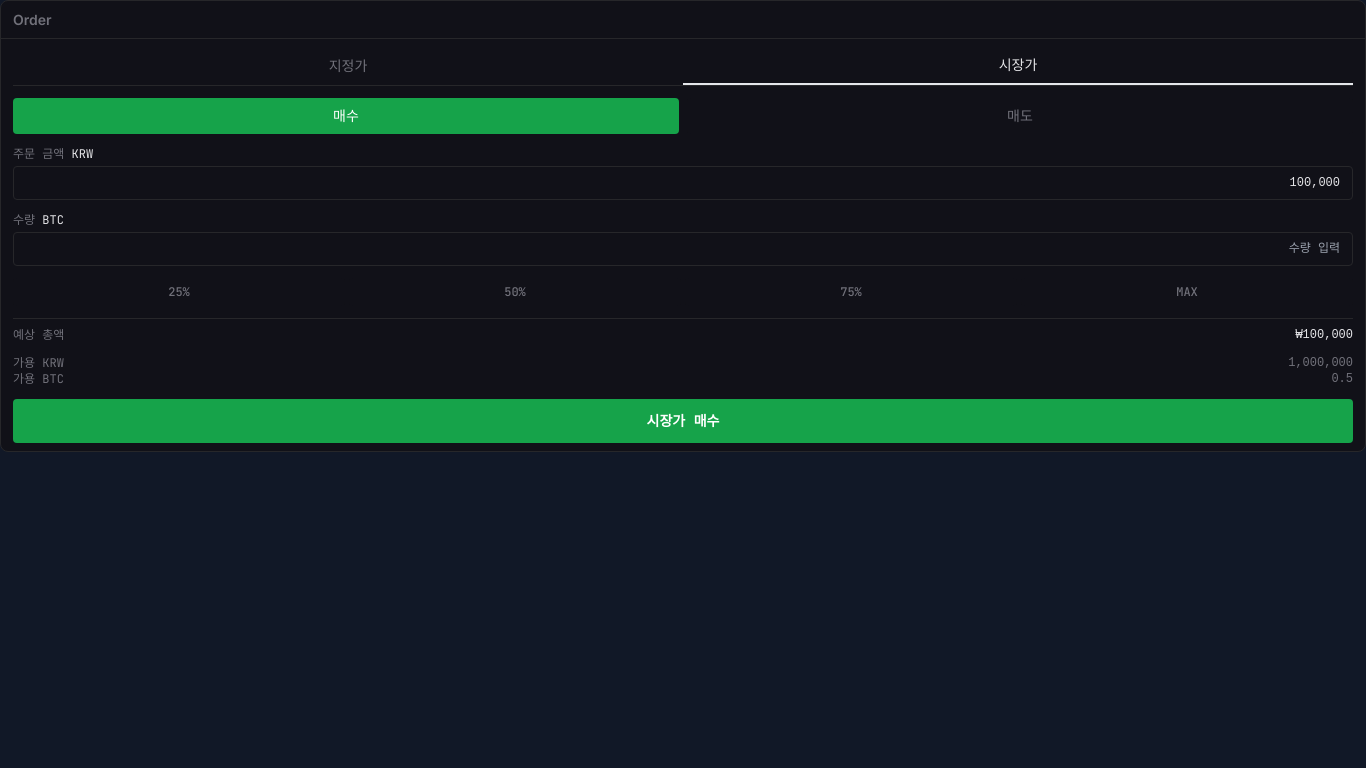
Test: OrderPanel › WTS-3.3: 주문 제출 버튼 (AC: #1, #7) › 버튼 클릭 시 확인 다이얼로그가 표시되어야 한다 (AC #1)
Click the button with test id "order-submit-btn".
click(683, 421)  # box [13,399,1353,443]
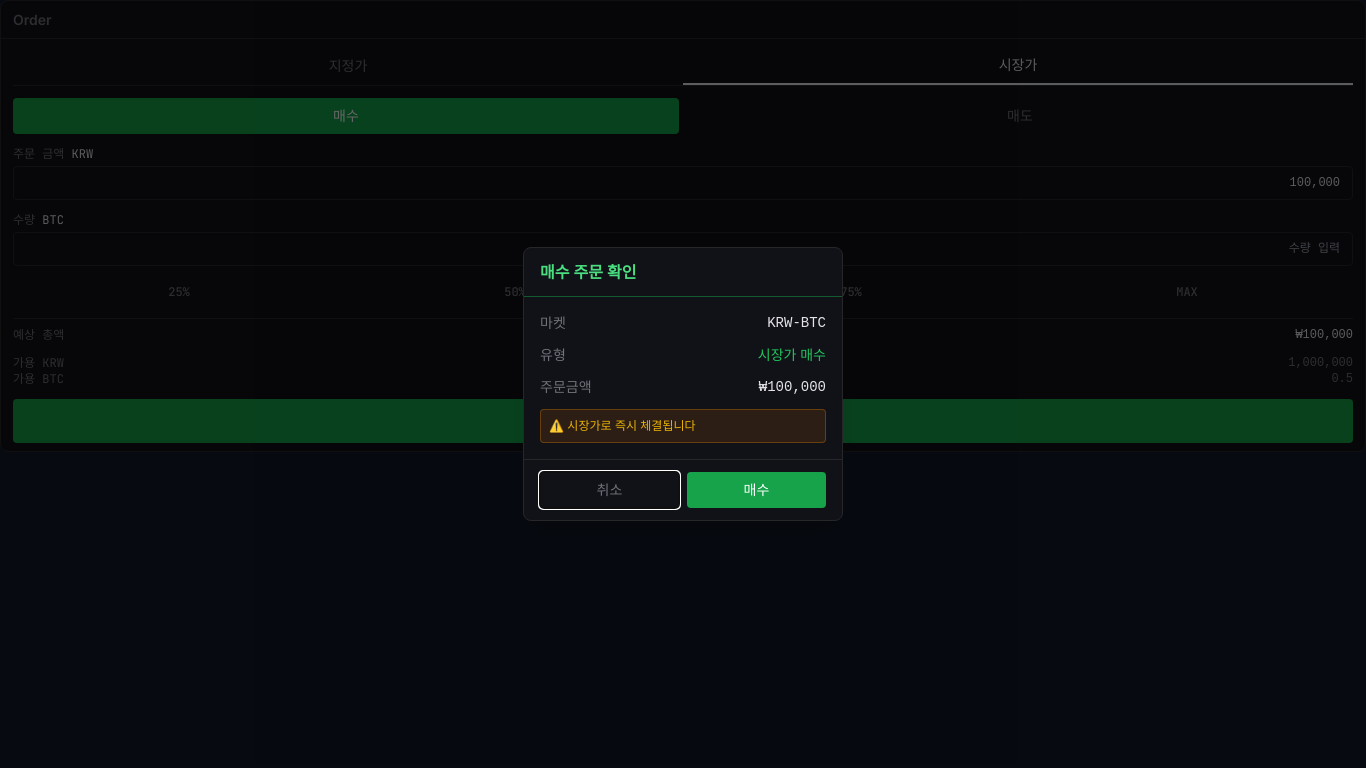
Expected: the dialog is shown, [523,247,843,521]
Expected: the heading "매수 주문 확인" is shown, [540,262,636,282]
